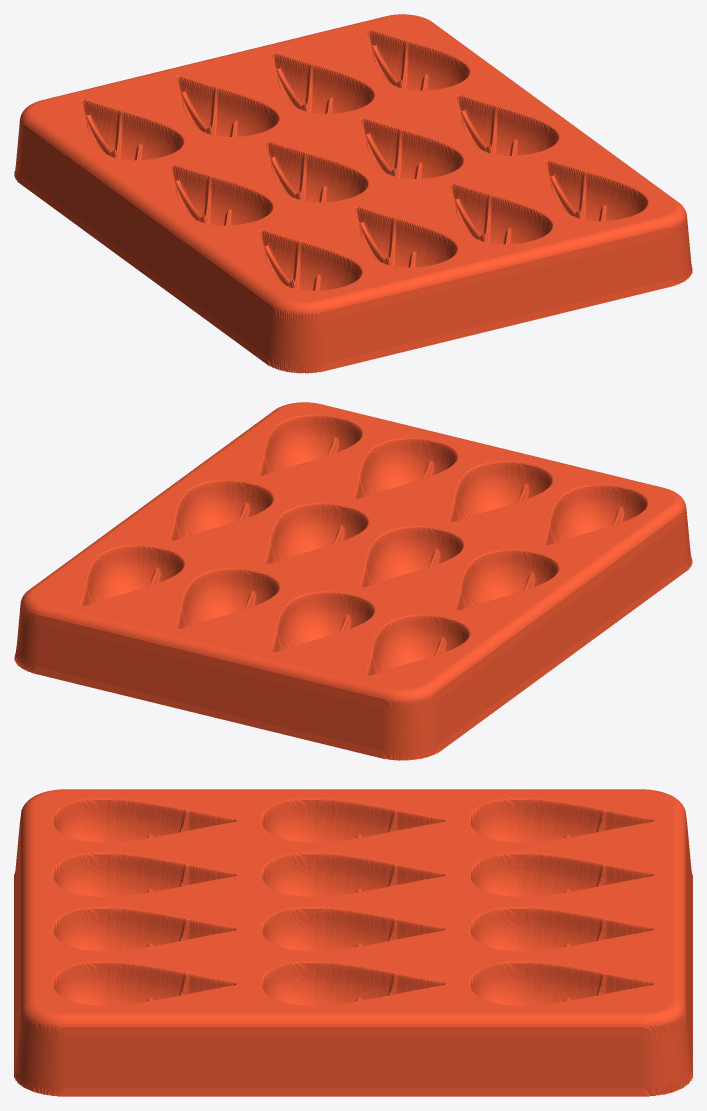
File: mold.glb
The picture shows the model from 3 angles, top to bottom: view 1: azimuth 30°, elevation 25°; view 2: azimuth 150°, elevation 25°; view 3: azimuth 270°, elevation 25°; orthographic projection. The views are drawn at different scales.
Visible parts, largest first — view 1: geometry_0; view 2: geometry_0; view 3: geometry_0.
Part boxes in pixels (left/top/right/bottom): geometry_0: left=14, top=14, right=692, bottom=373; geometry_0: left=14, top=402, right=692, bottom=760; geometry_0: left=14, top=789, right=692, bottom=1096.
Size of the model in its own units: 0.0997 by 0.0145 by 0.1192.
